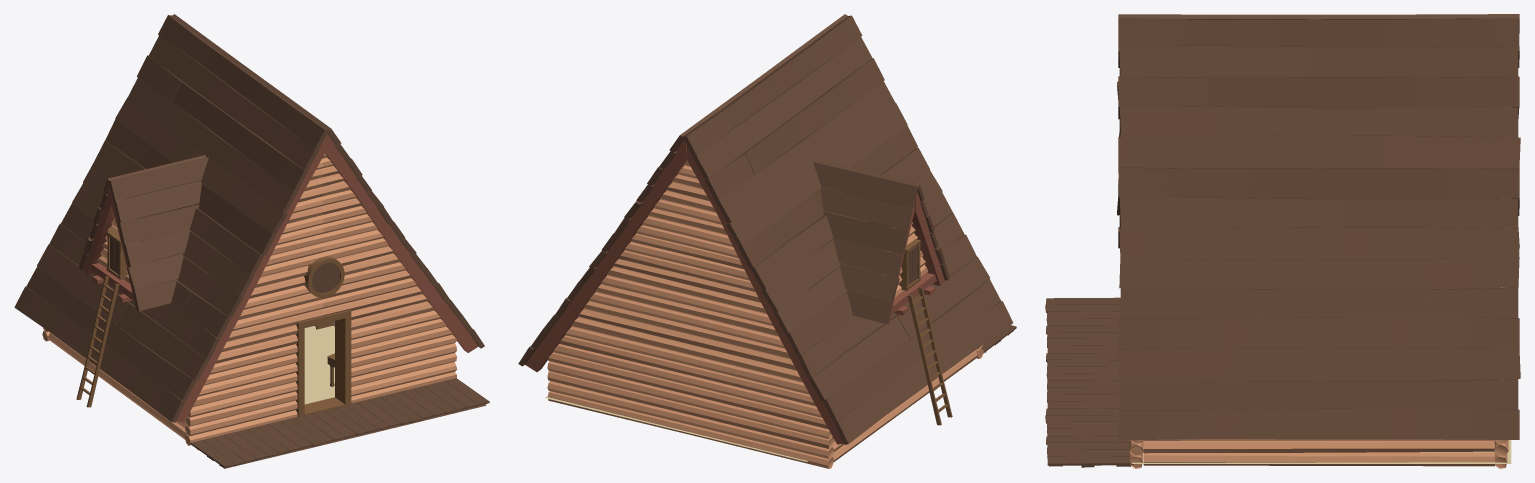
Rendered from house_v7.fbx.
The picture shows the model from 3 angles, left to right: view 1: azimuth 30°, elevation 25°; view 2: azimuth 150°, elevation 25°; view 3: azimuth 270°, elevation 25°; orthographic projection. The views are drawn at different scales.
Parts seen in each view (by area): view 1: exterior_dark, exterior_light, red_obj, dark_wood_obj, floor; view 2: exterior_dark, exterior_light, red_obj, dark_wood_obj, floor; view 3: exterior_dark, exterior_light, floor.
Part boxes in pixels (box(x1,y1,x2,y2)): exterior_dark: box(14, 14, 489, 468); exterior_light: box(42, 154, 457, 445); red_obj: box(84, 126, 477, 422); dark_wood_obj: box(76, 230, 351, 417); floor: box(304, 325, 457, 404); exterior_dark: box(518, 14, 1016, 444); exterior_light: box(547, 160, 983, 468); red_obj: box(525, 18, 944, 444); dark_wood_obj: box(899, 239, 952, 425); floor: box(545, 396, 807, 461); exterior_dark: box(1045, 14, 1520, 467); exterior_light: box(1129, 198, 1508, 468); floor: box(1132, 440, 1511, 463).
Size of the model in its own units: 8.35 by 7.08 by 8.23.
